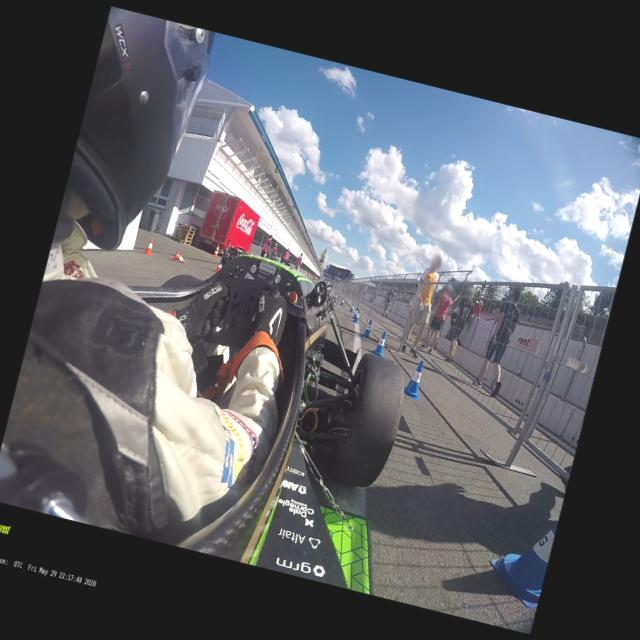blue_cone: (481, 505, 558, 610), (400, 358, 428, 400), (371, 329, 388, 357), (361, 317, 374, 338), (354, 310, 361, 322), (348, 302, 355, 312), (339, 296, 345, 306), (354, 307, 358, 317)
large_orange_cone: (212, 242, 220, 257)
orange_cone: (172, 248, 187, 264), (143, 238, 155, 255), (215, 259, 223, 273)
